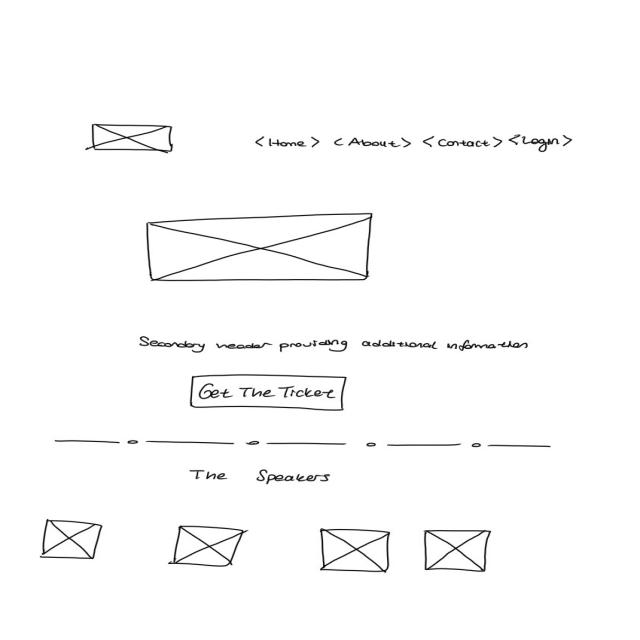button: (190, 374, 350, 414)
image: (147, 212, 376, 284), (317, 528, 394, 574), (171, 526, 246, 570), (423, 529, 493, 576), (41, 520, 105, 562), (91, 124, 175, 155)
label: (139, 337, 531, 355), (189, 468, 339, 487)
link: (421, 135, 505, 151), (509, 134, 573, 154), (335, 136, 413, 152), (254, 136, 322, 149)
